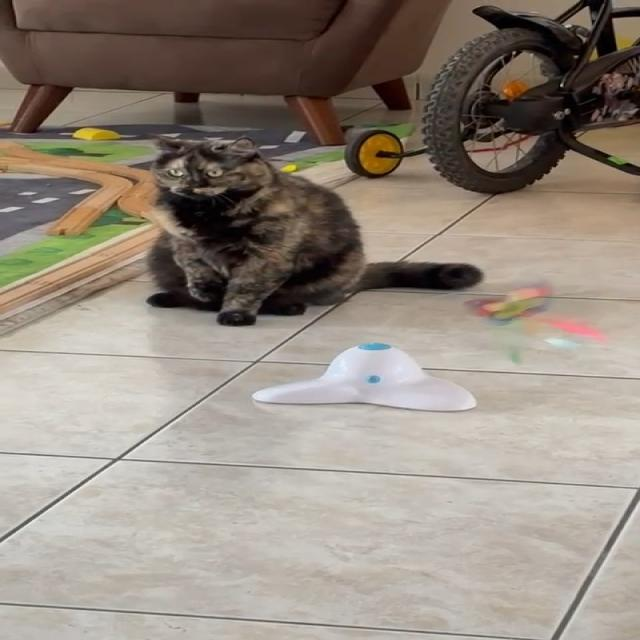authorized: (143, 134, 484, 326)
